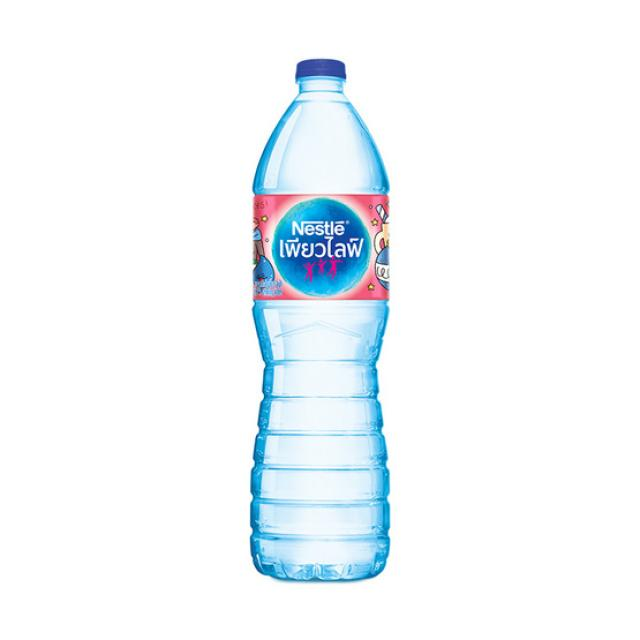bottle: (247, 55, 392, 583)
